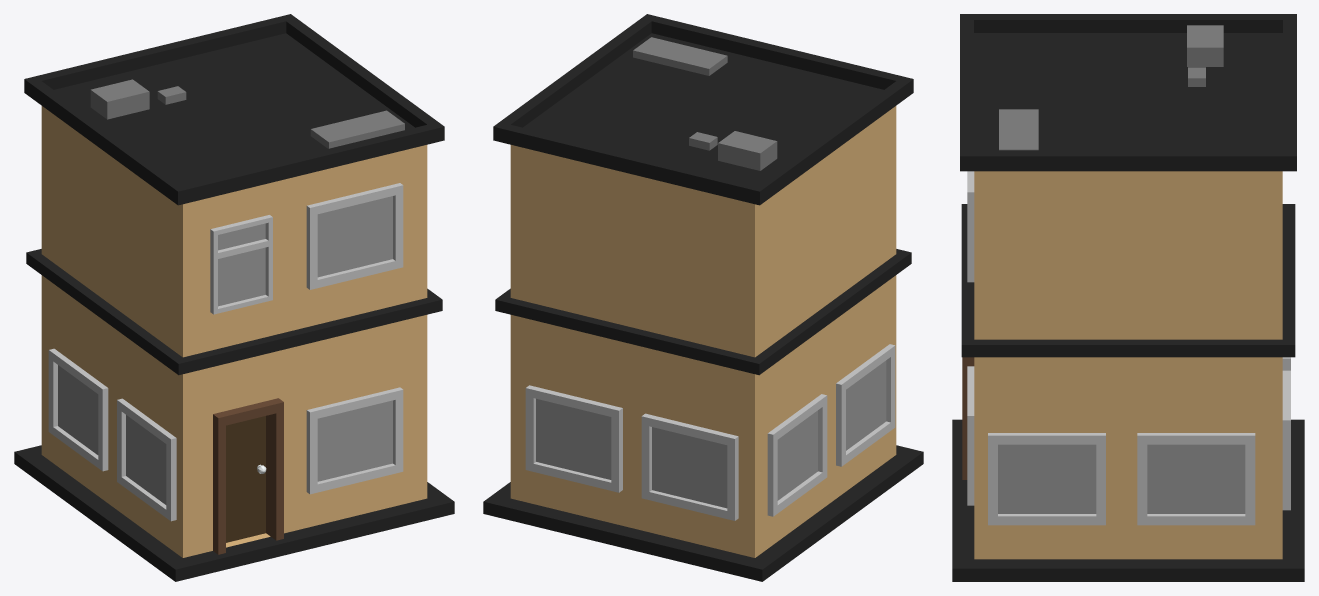
File: buildings3.fbx
The picture shows the model from 3 angles, left to right: view 1: azimuth 30°, elevation 25°; view 2: azimuth 150°, elevation 25°; view 3: azimuth 270°, elevation 25°; orthographic projection. The views are drawn at different scales.
Parts seen in each view (by area): view 1: Cube; view 2: Cube; view 3: Cube.
Boxes of the visible parts, box(x1,y1,x2,y2) form: Cube: box(14, 14, 454, 581); Cube: box(483, 14, 923, 581); Cube: box(952, 14, 1304, 581).
Size of the model in its own units: 597 by 802 by 597.
